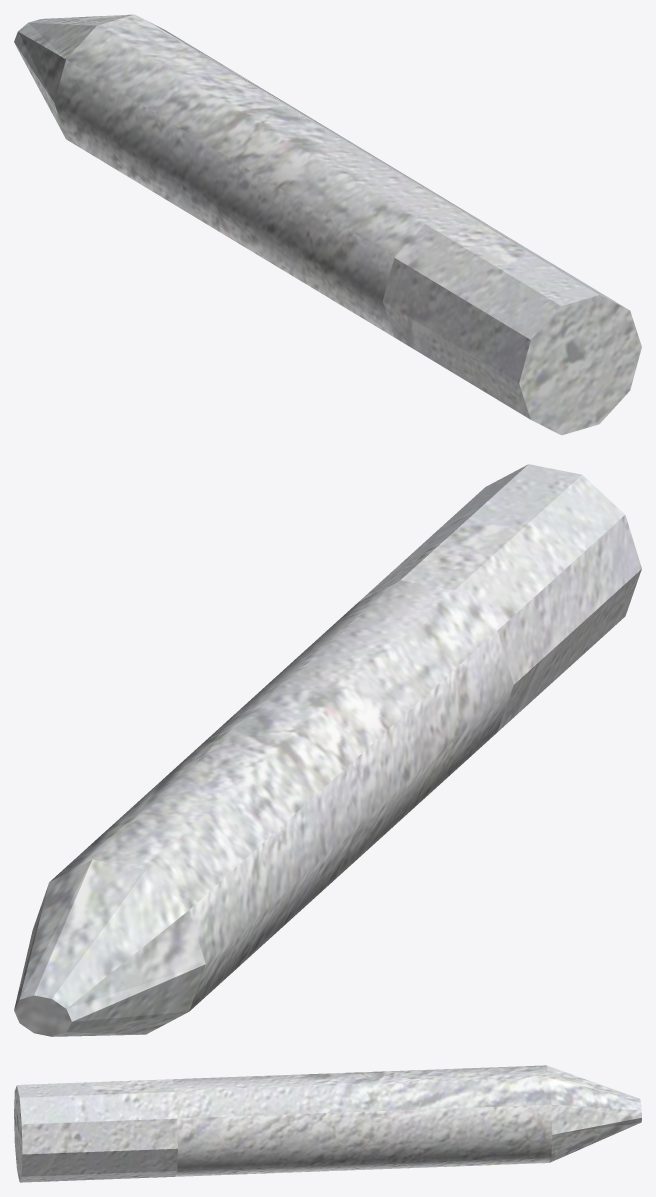
File: chalk.obj
The picture shows the model from 3 angles, top to bottom: view 1: azimuth 30°, elevation 25°; view 2: azimuth 150°, elevation 25°; view 3: azimuth 270°, elevation 25°; orthographic projection. The views are drawn at different scales.
Visible parts, largest first — view 1: Cylinder001; view 2: Cylinder001; view 3: Cylinder001.
Boxes of the visible parts, x1=… form: Cylinder001: x1=14, y1=14, x2=641, y2=435; Cylinder001: x1=14, y1=464, x2=641, y2=1036; Cylinder001: x1=14, y1=1065, x2=641, y2=1182.
Bounding box in the file's own units: 12.7 × 8.24 × 55.26.
1 material, 1 textured.
